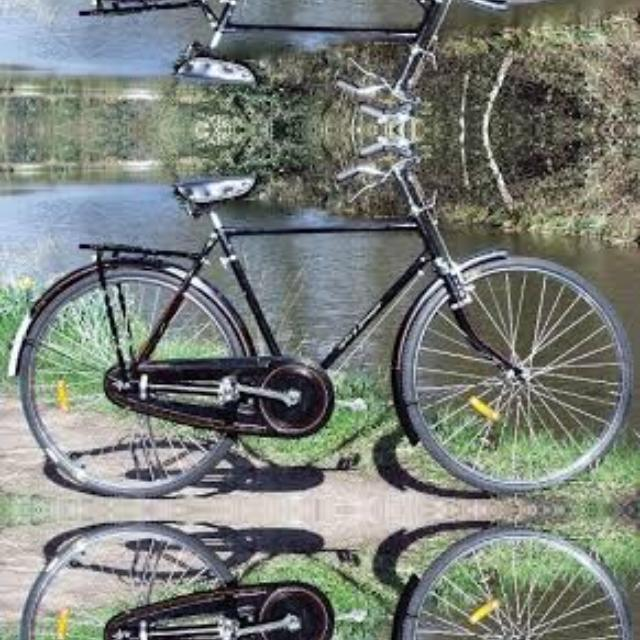obstacle: (3, 132, 624, 510), (3, 509, 624, 640), (3, 0, 624, 125)
